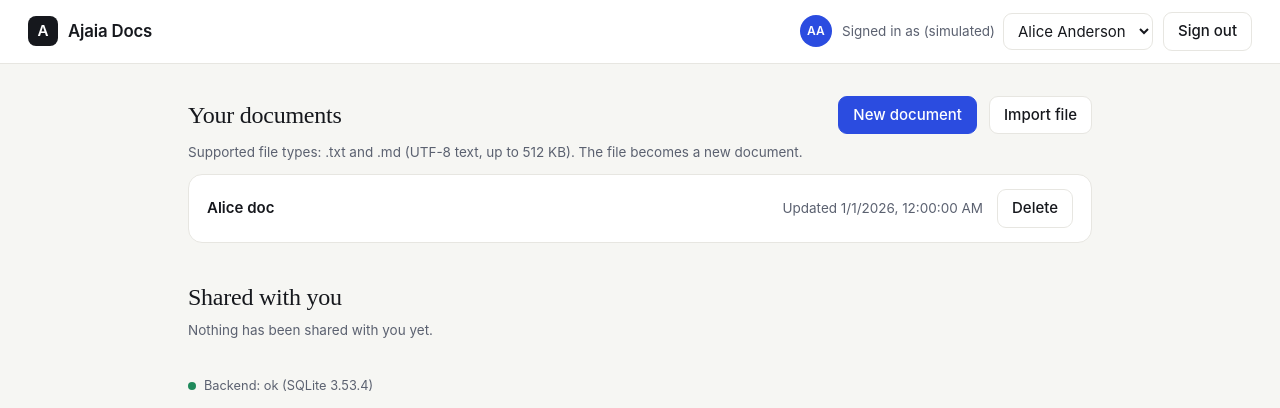
Test case: Simulated sign-in (UI) › [FR-3.2] switching users signs in as the other user and reloads the list for them
The width and height of the screenshot is (1280, 408).
Expected: the link "Alice doc" is shown, x1=207 y1=198 x2=274 y2=217
Select "Bob Brown" in the dropdown named "Switch user" at (1078, 31), box x1=1003 y1=13 x2=1153 y2=50
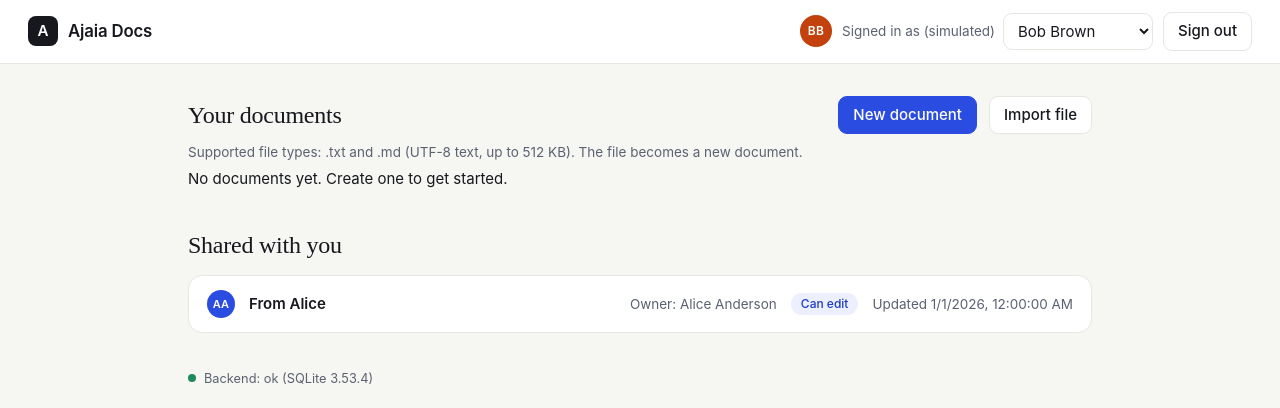
Now the link "From Alice" is shown, box x1=249 y1=294 x2=326 y2=312
Now the link "Alice doc" is gone
